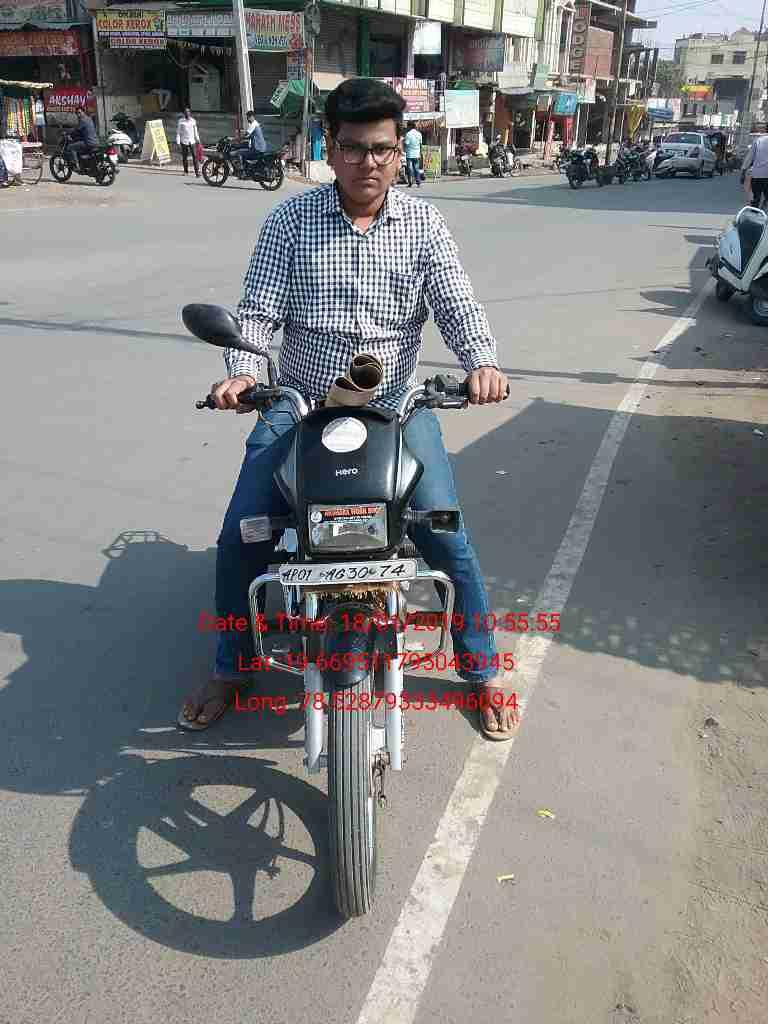plate: (275, 555, 421, 585)
